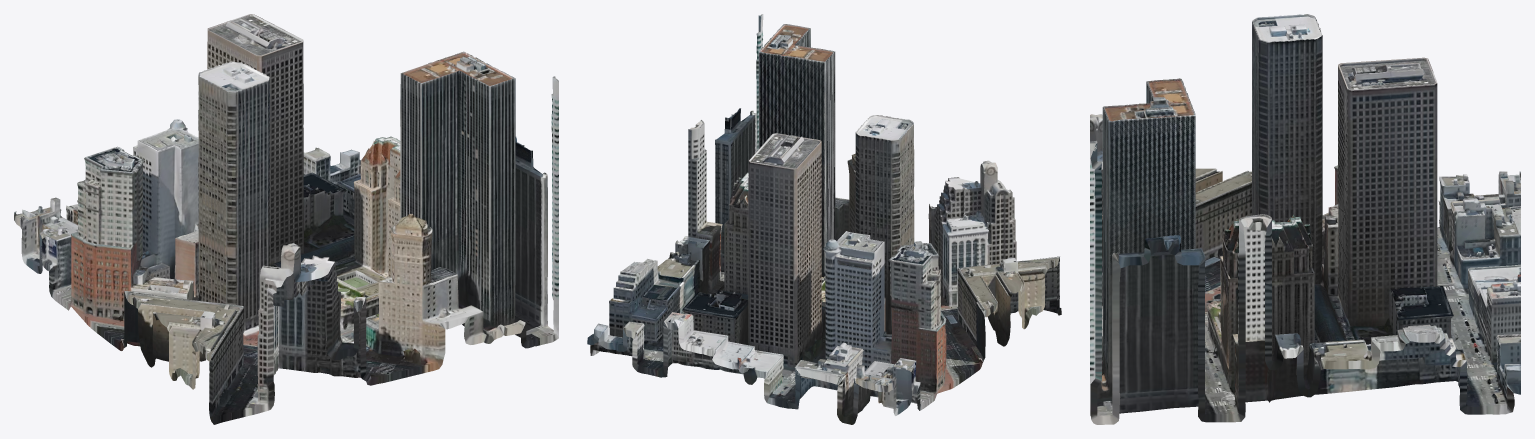
The model's file is z17-20970-50655-h0-yup-uvflip-v3-world.glb.
The picture shows the model from 3 angles, left to right: view 1: azimuth 30°, elevation 25°; view 2: azimuth 150°, elevation 25°; view 3: azimuth 270°, elevation 25°; orthographic projection. The views are drawn at different scales.
Size of the model in its own units: 242 by 183 by 243.
1 material, 1 textured.
